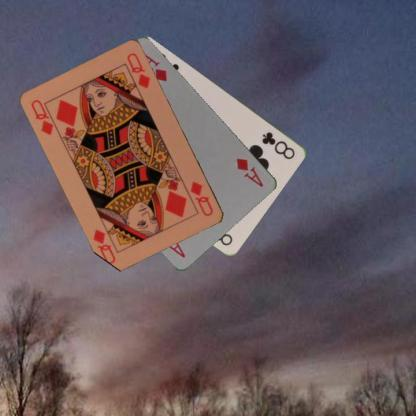8c: (259, 128, 297, 160)
Ad: (234, 155, 265, 188)
Qd: (28, 96, 62, 137), (188, 178, 215, 218)
